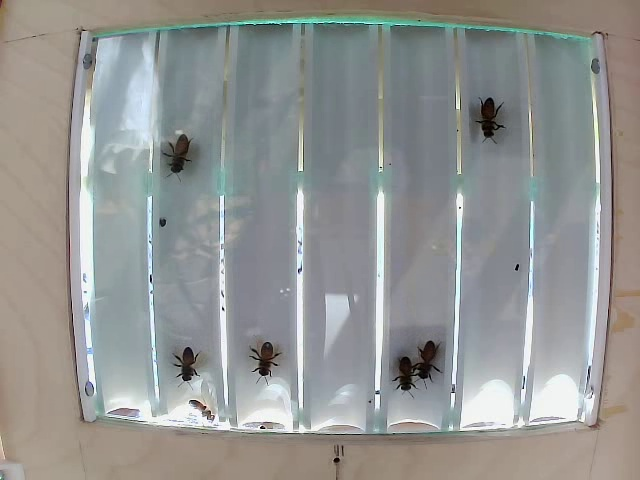bee: (470, 88, 515, 144), (252, 338, 292, 388), (414, 334, 454, 376), (160, 131, 200, 166), (175, 351, 209, 387), (393, 346, 414, 399)
